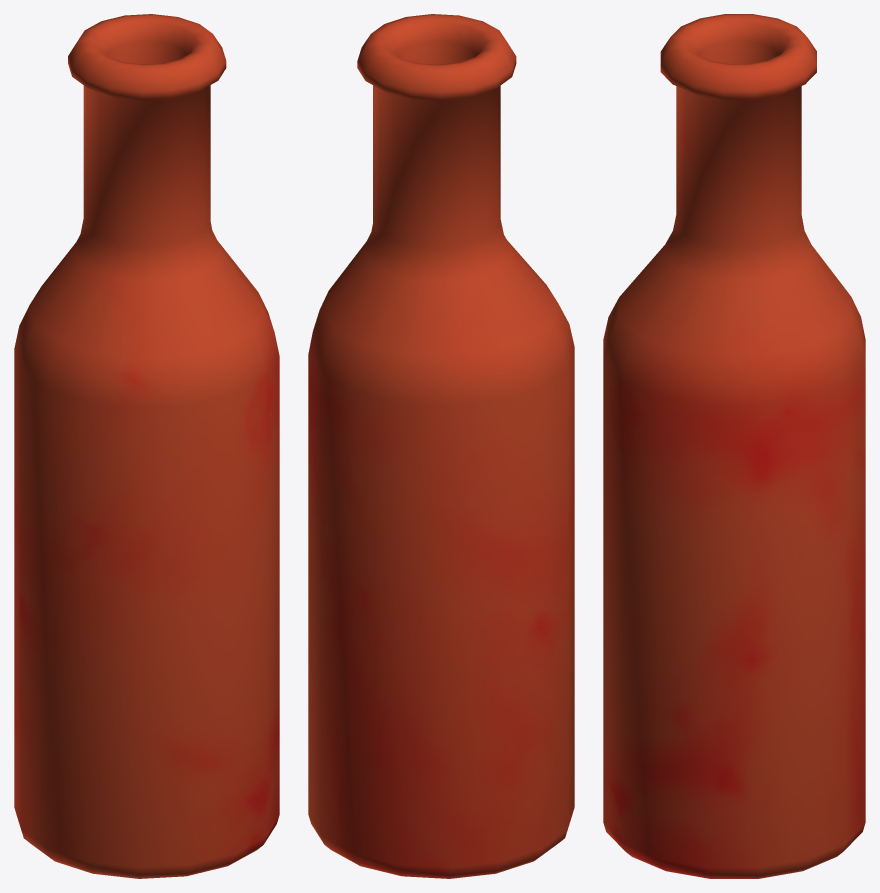
Rendered from Bottles_2.fbx.
3 renders of one model, left to right at view 1: azimuth 30°, elevation 25°; view 2: azimuth 150°, elevation 25°; view 3: azimuth 270°, elevation 25°, orthographic.
Visible parts, largest first — view 1: Bottles_2; view 2: Bottles_2; view 3: Bottles_2.
Part boxes in pixels (x1,y1,x2,y2): Bottles_2: [14, 14, 279, 878]; Bottles_2: [308, 14, 574, 878]; Bottles_2: [603, 14, 865, 878].
Bounding box in the file's own units: 0.1207 × 0.402 × 0.1207.
